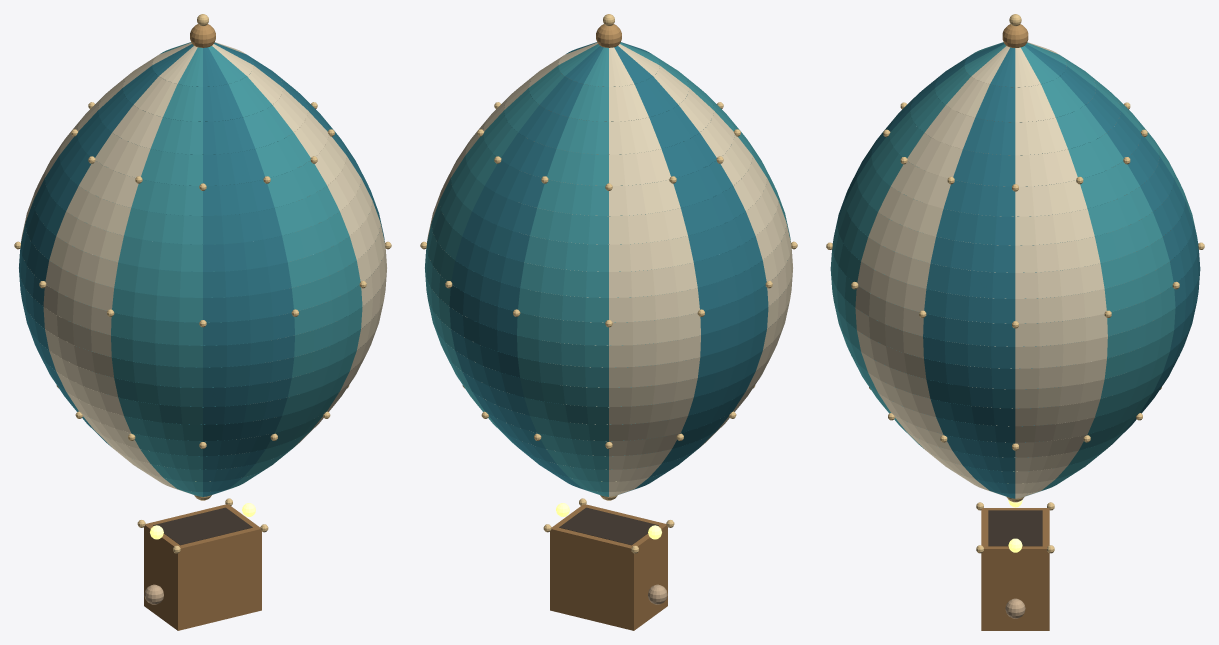
File: globo-villa-perez-v3.glb
3 renders of one model, left to right at view 1: azimuth 30°, elevation 25°; view 2: azimuth 150°, elevation 25°; view 3: azimuth 270°, elevation 25°, orthographic.
Visible parts, largest first — view 1: material-0, material-2, material-1, material-5, material-7, material-4, material-3; view 2: material-2, material-1, material-0, material-5, material-7, material-4, material-3; view 3: material-1, material-2, material-0, material-5, material-7, material-4, material-3.
Boxes of the visible parts, bbox=[...] form: material-0: bbox=[67, 42, 362, 496]; material-2: bbox=[19, 42, 384, 496]; material-1: bbox=[21, 42, 386, 494]; material-5: bbox=[144, 504, 261, 630]; material-7: bbox=[153, 507, 252, 545]; material-4: bbox=[14, 14, 391, 553]; material-3: bbox=[190, 24, 215, 47]; material-2: bbox=[449, 42, 768, 494]; material-1: bbox=[427, 42, 792, 496]; material-0: bbox=[425, 42, 790, 496]; material-5: bbox=[550, 504, 667, 630]; material-7: bbox=[559, 507, 658, 545]; material-4: bbox=[420, 14, 797, 553]; material-3: bbox=[596, 24, 621, 47]; material-1: bbox=[855, 42, 1172, 498]; material-2: bbox=[832, 42, 1200, 498]; material-0: bbox=[830, 42, 1198, 495]; material-5: bbox=[981, 508, 1049, 630]; material-7: bbox=[988, 510, 1042, 546]; material-4: bbox=[826, 14, 1204, 553]; material-3: bbox=[1002, 24, 1028, 47].
Bounding box in the file's own units: 12.76 × 22.16 × 12.74.
